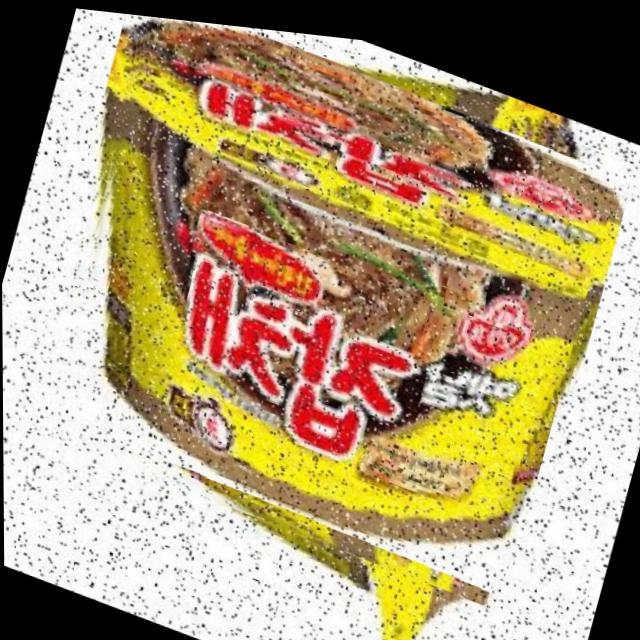Miscellaneous: (24, 2, 625, 610)
